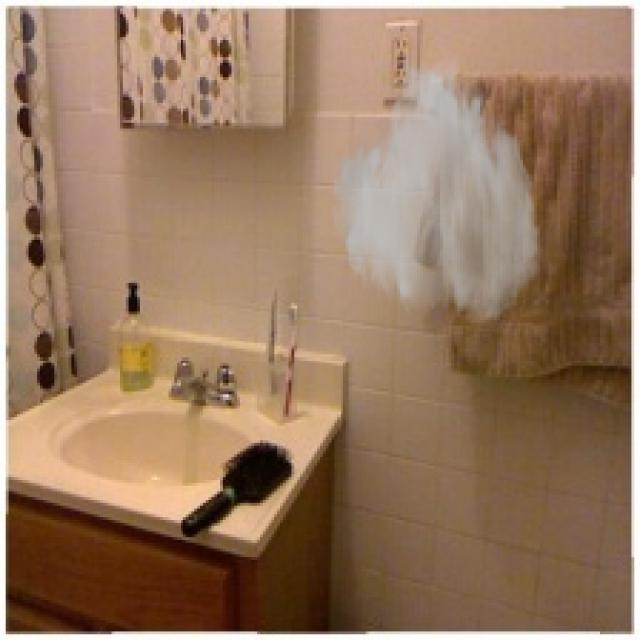smoke: (328, 49, 543, 328)
